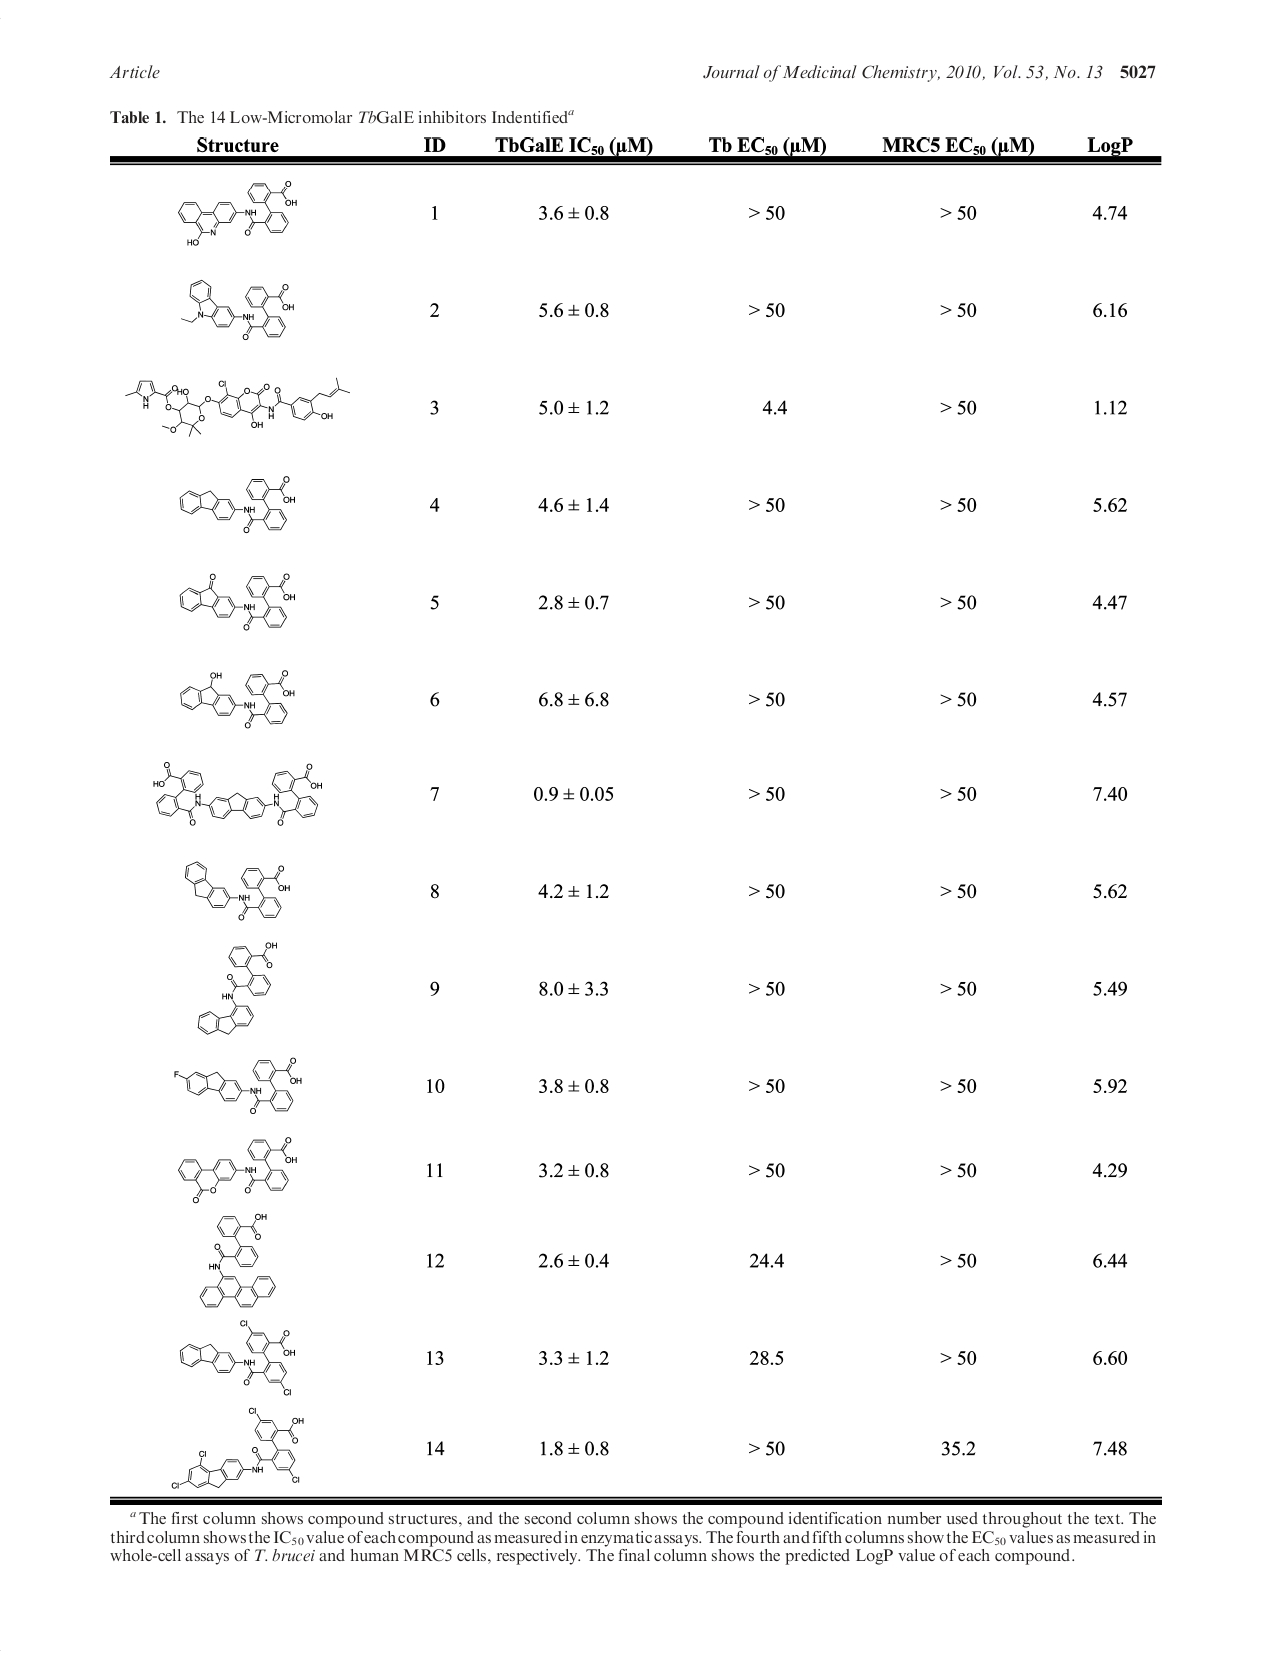exist_molecular: (121, 372, 352, 439), (148, 759, 324, 831), (169, 1404, 306, 1491), (180, 1318, 294, 1396), (177, 180, 301, 247), (178, 1136, 298, 1205), (195, 939, 281, 1035), (170, 1055, 303, 1114), (197, 1210, 277, 1310), (177, 473, 301, 537), (178, 666, 298, 729), (177, 571, 297, 630), (180, 279, 297, 340), (180, 859, 293, 922)
